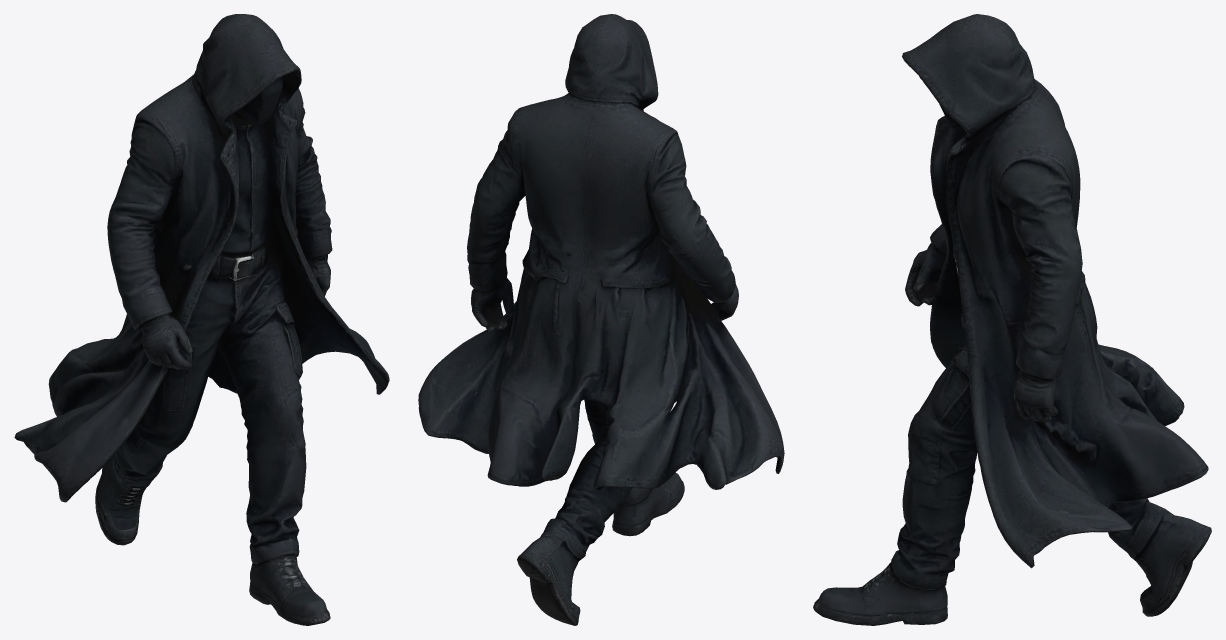
The model's file is hooded_thug.glb.
3 renders of one model, left to right at view 1: azimuth 30°, elevation 25°; view 2: azimuth 150°, elevation 25°; view 3: azimuth 270°, elevation 25°, orthographic. The views are drawn at different scales.
Parts seen in each view (by area): view 1: tripo_node_fb2d80d4-b08b-4fd9-9fea-039fb4cf990a; view 2: tripo_node_fb2d80d4-b08b-4fd9-9fea-039fb4cf990a; view 3: tripo_node_fb2d80d4-b08b-4fd9-9fea-039fb4cf990a.
Boxes of the visible parts, x1=… form: tripo_node_fb2d80d4-b08b-4fd9-9fea-039fb4cf990a: x1=14, y1=14, x2=389, y2=625; tripo_node_fb2d80d4-b08b-4fd9-9fea-039fb4cf990a: x1=418, y1=14, x2=784, y2=625; tripo_node_fb2d80d4-b08b-4fd9-9fea-039fb4cf990a: x1=813, y1=14, x2=1211, y2=625.
Bounding box in the file's own units: 1.17 × 1.85 × 1.08.
Materials: 1 (1 with a texture image).
